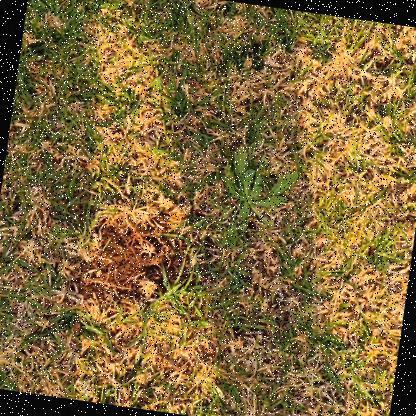Weeds: (217, 145, 300, 256)
